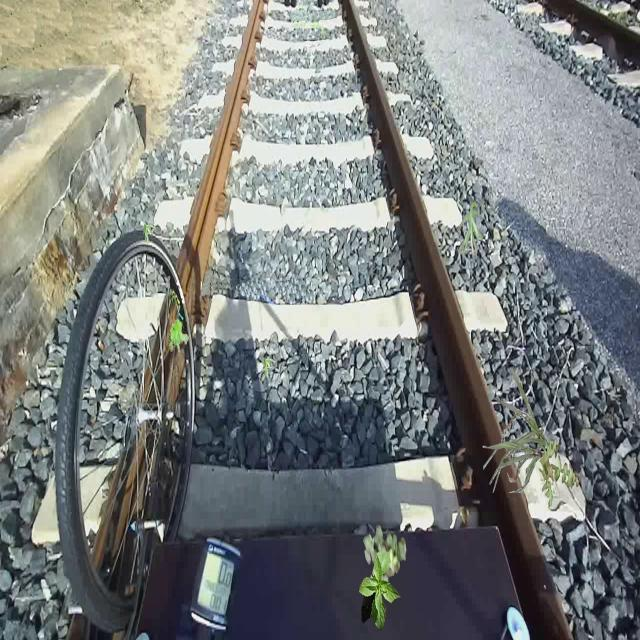Plant: (483, 369, 556, 494), (359, 551, 401, 631), (538, 437, 580, 508), (363, 524, 406, 590), (457, 201, 484, 258), (168, 319, 188, 352), (262, 358, 276, 378), (142, 224, 156, 244)
